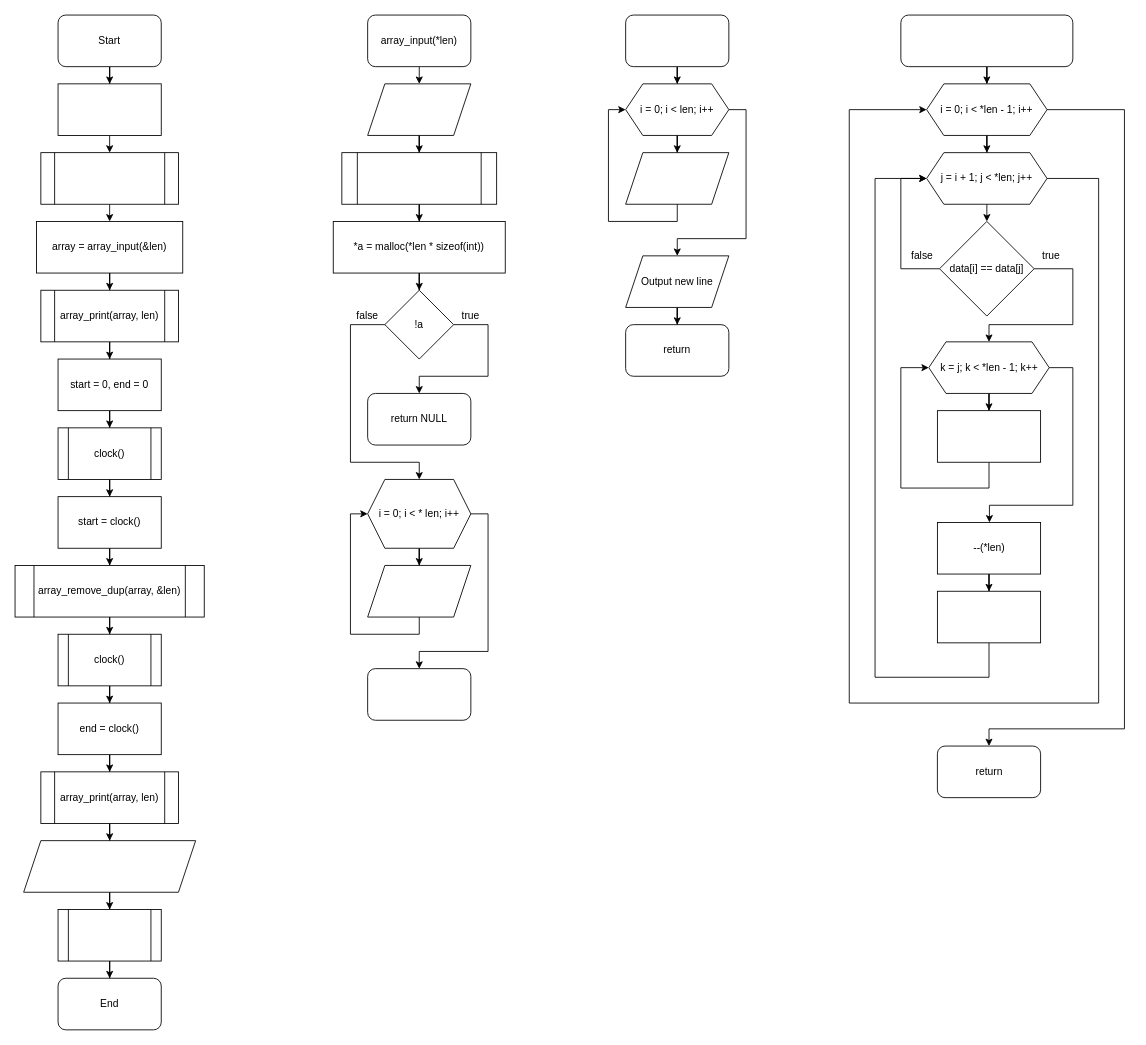
The diagram is 1146 pixels wide and 1045 high, and some of its shapes have lost their labels. The centre of each missing label's shape, as x and y in pixels:
"--i" goes at point 989,616.
"array_input(&len)" goes at point 109,178.
"array_print(*a, len)" goes at point 677,40.
"array_remove_dup(*data, *len)" goes at point 986,40.
"data[k] = data[k + 1]" goes at point 989,436.
"free(array)" goes at point 109,935.
"Input &a[i]" goes at point 419,591.
"Input len" goes at point 419,109.
"len = 0" goes at point 109,109.
"malloc(*len * sizeof(int))" goes at point 419,178.
"Output ((double)(end - start) / CLOCKS_PER_SEC)" goes at point 109,866.
"Output a[i]" goes at point 677,178.
"return a" goes at point 419,694.
